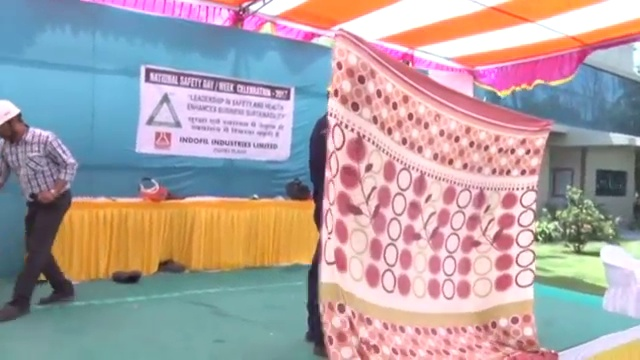helmet: (1, 97, 23, 128)
helmet_on: (1, 97, 30, 144)
person: (1, 95, 79, 320)
